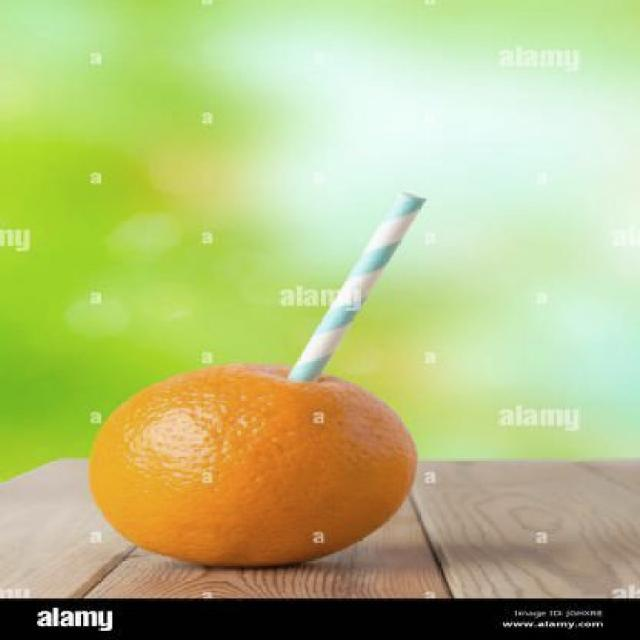Jeruk Sudah Matang: (90, 363, 418, 580)
